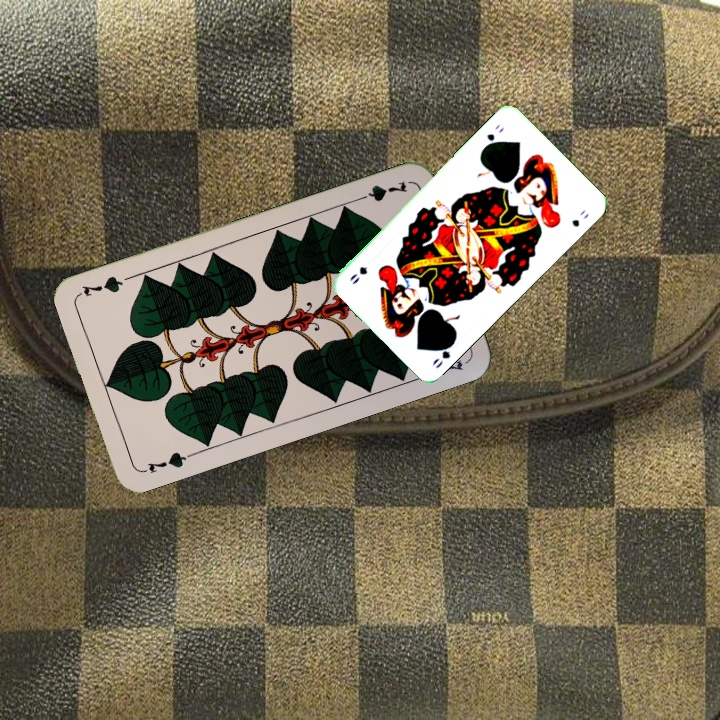G7: (137, 448, 195, 477), (351, 177, 410, 205)
GO: (428, 336, 458, 371), (479, 120, 507, 152)
